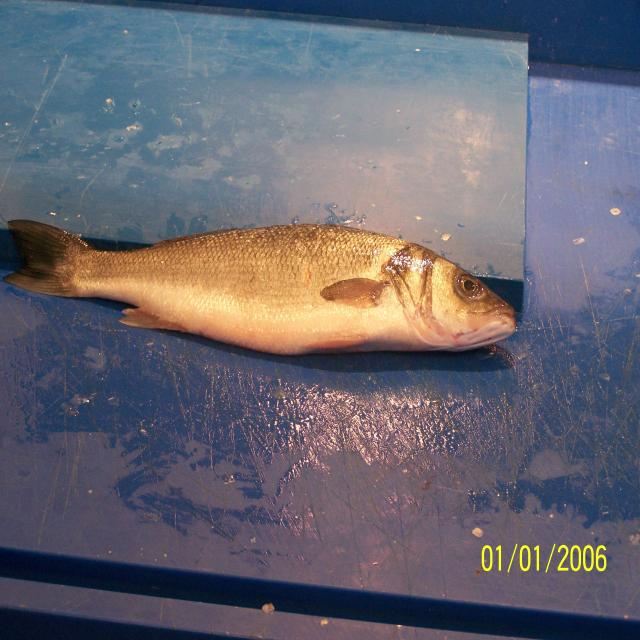Sea-Bass-levrek-: (5, 220, 518, 358)
